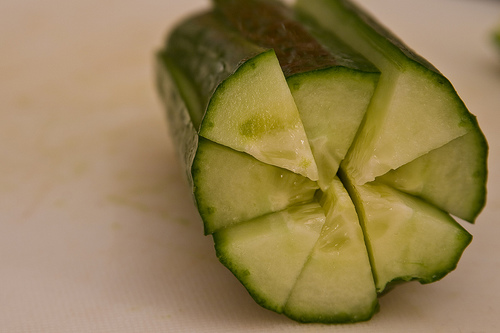cucumber: (151, 0, 489, 323)
